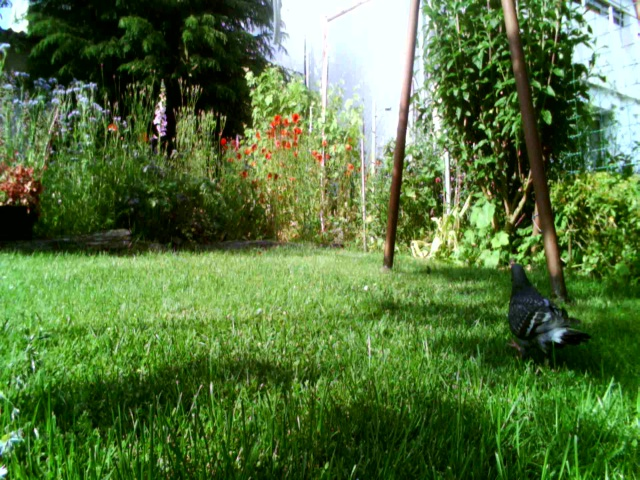Pigeon: (499, 256, 590, 371)
